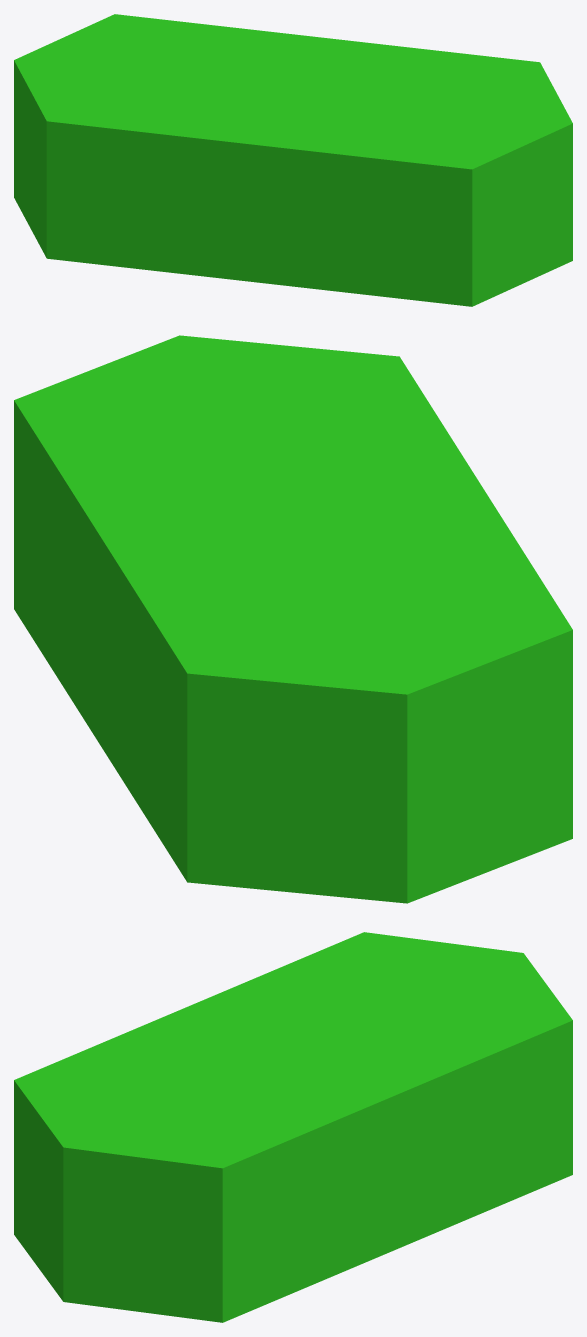
File: NormalContent.fbx
3 renders of one model, top to bottom at view 1: azimuth 30°, elevation 25°; view 2: azimuth 150°, elevation 25°; view 3: azimuth 270°, elevation 25°, orthographic. The views are drawn at different scales.
Visible parts, largest first — view 1: Model; view 2: Model; view 3: Model.
Boxes of the visible parts, x1,y1,x2,y2 form: Model: (14, 14, 572, 306); Model: (14, 335, 572, 903); Model: (14, 932, 572, 1322).
Size of what is drawn, in the model's own units: 1.01 by 0.308 by 1.01.
